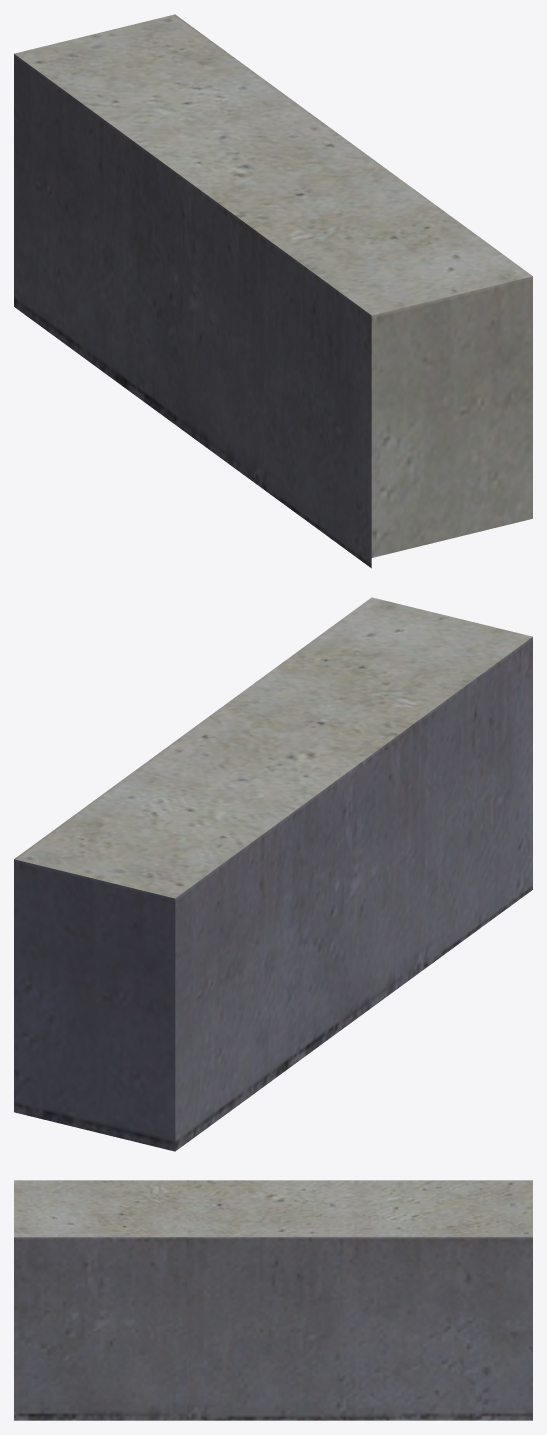
3 renders of one model, top to bottom at view 1: azimuth 30°, elevation 25°; view 2: azimuth 150°, elevation 25°; view 3: azimuth 270°, elevation 25°, orthographic. The views are drawn at different scales.
Visible parts, largest first — view 1: Joint_0_Object_0, Joint_0_Object_1; view 2: Joint_0_Object_0, Joint_0_Object_1; view 3: Joint_0_Object_0, Joint_0_Object_1.
Part boxes in pixels (x1,y1,x2,y2): Joint_0_Object_0: [14, 54, 532, 568]; Joint_0_Object_1: [14, 14, 532, 315]; Joint_0_Object_0: [14, 637, 532, 1151]; Joint_0_Object_1: [14, 597, 532, 898]; Joint_0_Object_0: [14, 1237, 532, 1420]; Joint_0_Object_1: [14, 1180, 532, 1237].
Bounding box in the file's own units: 400 × 600 × 1538.
2 materials, 2 textured.
